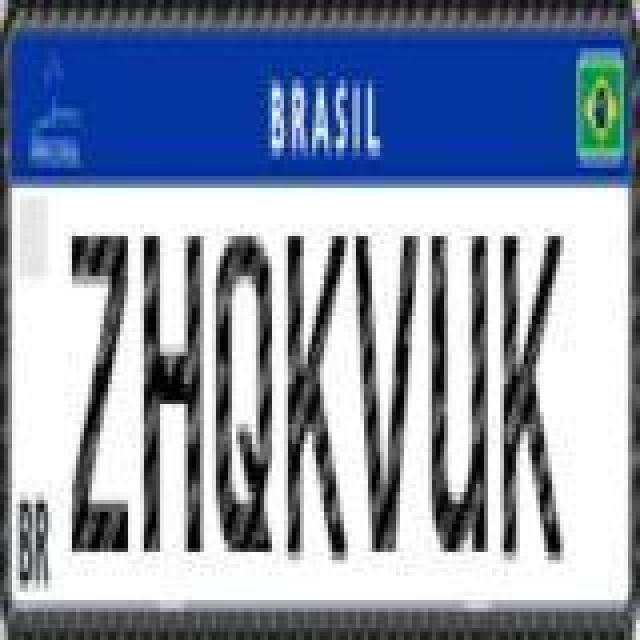H: (144, 226, 208, 558)
K: (284, 232, 348, 568), (500, 228, 564, 564)
Q: (212, 226, 276, 558)
U: (428, 226, 492, 558)
V: (350, 228, 418, 556)
Z: (70, 226, 130, 558)
